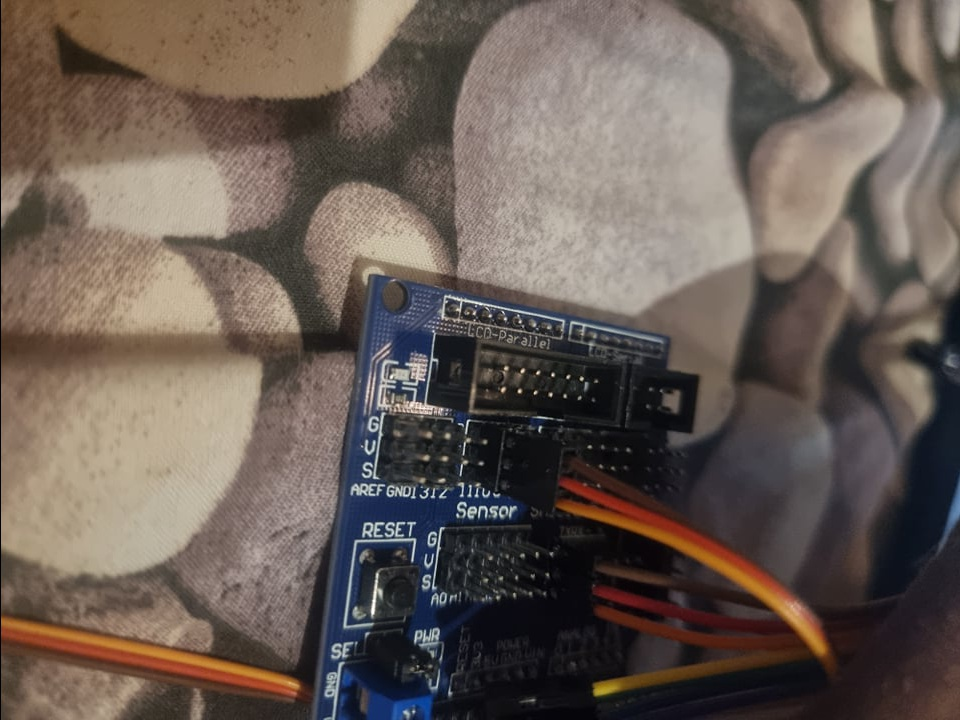5V EXPANSION: (315, 271, 701, 720)
